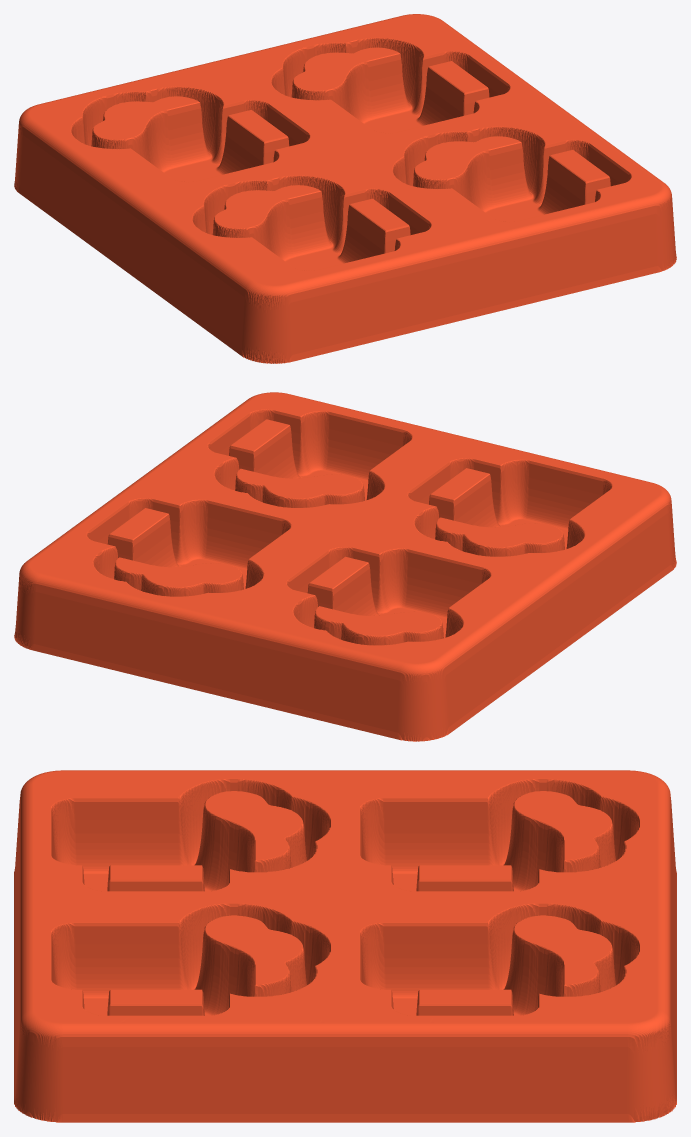
Rendered from mold.glb.
The picture shows the model from 3 angles, top to bottom: view 1: azimuth 30°, elevation 25°; view 2: azimuth 150°, elevation 25°; view 3: azimuth 270°, elevation 25°; orthographic projection. The views are drawn at different scales.
Parts seen in each view (by area): view 1: geometry_0; view 2: geometry_0; view 3: geometry_0.
Part boxes in pixels (left/top/right/bottom): geometry_0: left=14, top=14, right=676, bottom=363; geometry_0: left=14, top=392, right=676, bottom=741; geometry_0: left=14, top=770, right=676, bottom=1122.
Size of the model in its own units: 0.1165 by 0.0185 by 0.1218.
